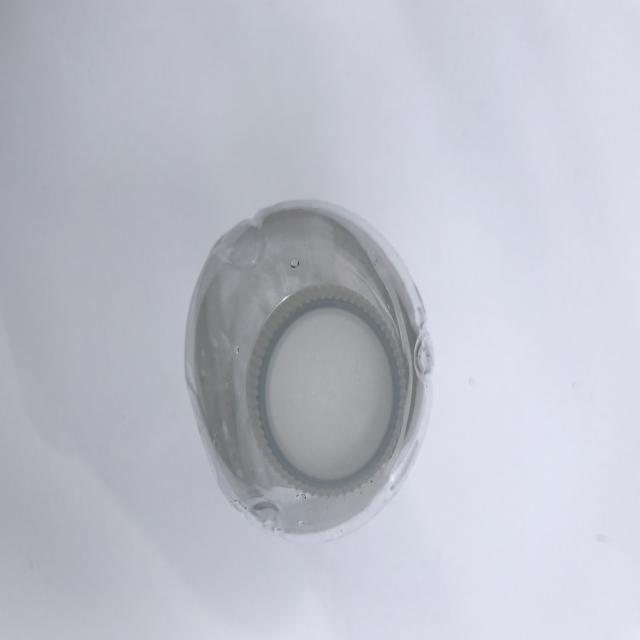plastic: (183, 197, 434, 541)
